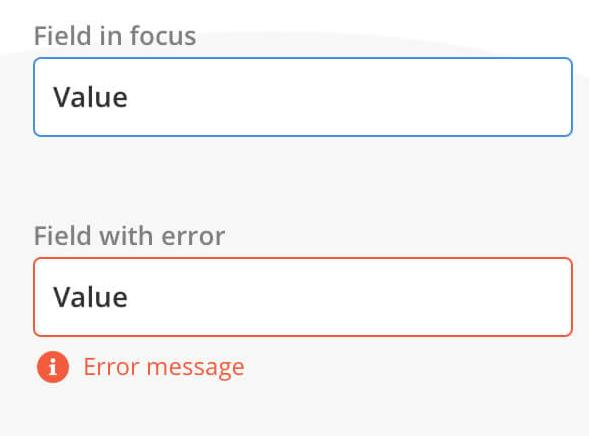field: (28, 253, 578, 338), (27, 57, 576, 140)
field_with_label: (21, 20, 581, 143), (18, 224, 579, 341)
